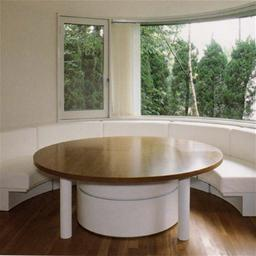Ventana: (129, 20, 255, 129), (61, 16, 108, 114)
